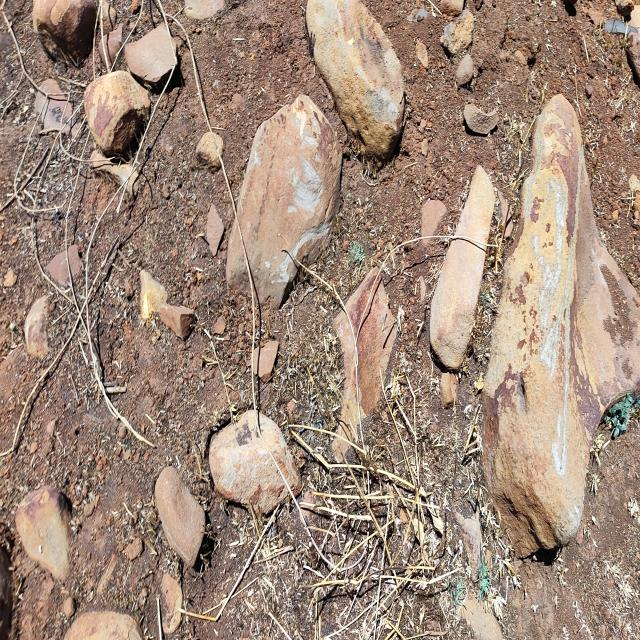rock: (483, 87, 640, 556), (224, 87, 344, 313), (304, 0, 408, 169), (204, 408, 304, 520), (83, 70, 152, 164), (14, 488, 75, 590), (151, 466, 208, 571), (30, 0, 94, 59), (462, 96, 504, 146), (153, 302, 198, 342), (194, 130, 227, 172)
